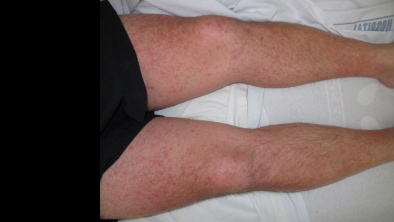SJS-TEN: (91, 106, 394, 222), (115, 9, 394, 112)
